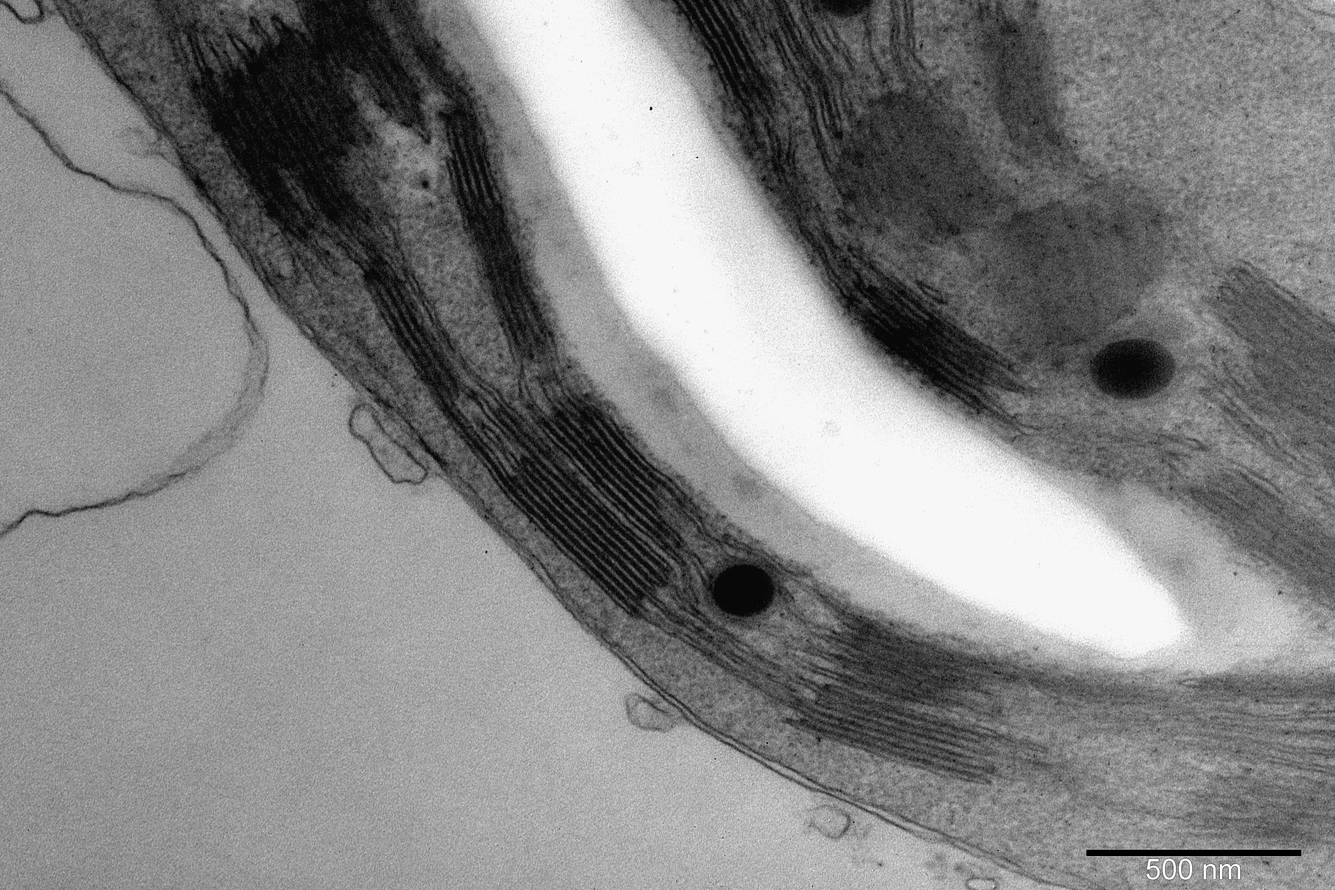granum: (487, 399, 674, 617), (187, 29, 371, 241), (826, 87, 1000, 259), (439, 111, 558, 361), (1000, 170, 1165, 339), (533, 392, 684, 558), (859, 273, 1024, 411), (1190, 456, 1333, 615), (1205, 258, 1335, 429), (796, 680, 995, 784), (359, 256, 472, 405), (293, 0, 426, 119), (670, 0, 779, 117), (969, 20, 1062, 156), (842, 615, 965, 710)
